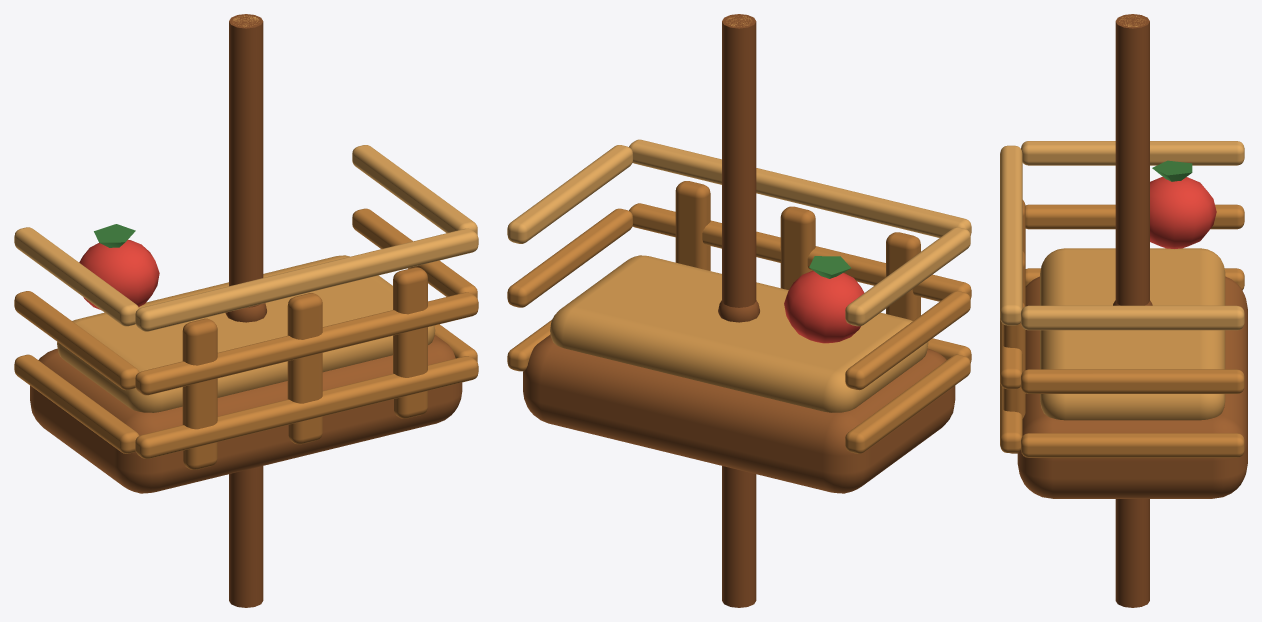
File: basket.glb
The picture shows the model from 3 angles, left to right: view 1: azimuth 30°, elevation 25°; view 2: azimuth 150°, elevation 25°; view 3: azimuth 270°, elevation 25°; orthographic projection.
Visible parts, largest first — view 1: n2, n3, n17, n9, n8, n7, n4, n5, n6, n12, n11, n10 (+5 smaller); view 2: n2, n3, n17, n9, n8, n26, n12, n11, n14, n15, n10, n6 (+5 smaller); view 3: n3, n2, n17, n15, n13, n14, n12, n9, n26, n11, n6, n8 (+3 smaller).
Part boxes in pixels (bbox=[...]): n2: bbox=[30, 334, 462, 493]; n3: bbox=[57, 255, 435, 412]; n17: bbox=[229, 14, 263, 607]; n9: bbox=[135, 228, 478, 331]; n8: bbox=[135, 292, 478, 395]; n7: bbox=[135, 356, 478, 458]; n4: bbox=[182, 318, 217, 469]; n5: bbox=[287, 293, 322, 444]; n6: bbox=[393, 267, 427, 418]; n12: bbox=[14, 227, 139, 326]; n11: bbox=[14, 291, 139, 390]; n10: bbox=[14, 354, 139, 453]; n2: bbox=[523, 334, 955, 493]; n3: bbox=[550, 255, 928, 412]; n17: bbox=[722, 14, 756, 607]; n9: bbox=[629, 139, 971, 237]; n8: bbox=[629, 203, 971, 301]; n26: bbox=[784, 270, 864, 343]; n12: bbox=[845, 227, 970, 326]; n11: bbox=[845, 291, 970, 390]; n14: bbox=[507, 208, 632, 307]; n15: bbox=[507, 145, 632, 243]; n10: bbox=[845, 354, 970, 453]; n6: bbox=[675, 181, 710, 270]; n3: bbox=[1040, 248, 1225, 420]; n2: bbox=[1017, 276, 1247, 498]; n17: bbox=[1115, 14, 1149, 607]; n15: bbox=[1021, 305, 1244, 330]; n13: bbox=[1021, 433, 1244, 457]; n14: bbox=[1021, 369, 1244, 393]; n12: bbox=[1021, 141, 1244, 165]; n9: bbox=[1000, 145, 1022, 325]; n26: bbox=[1150, 176, 1216, 248]; n11: bbox=[1025, 204, 1244, 229]; n6: bbox=[1003, 302, 1025, 453]; n8: bbox=[1000, 318, 1022, 389].
Size of the model in its own units: 0.645 by 1 by 0.3875.
